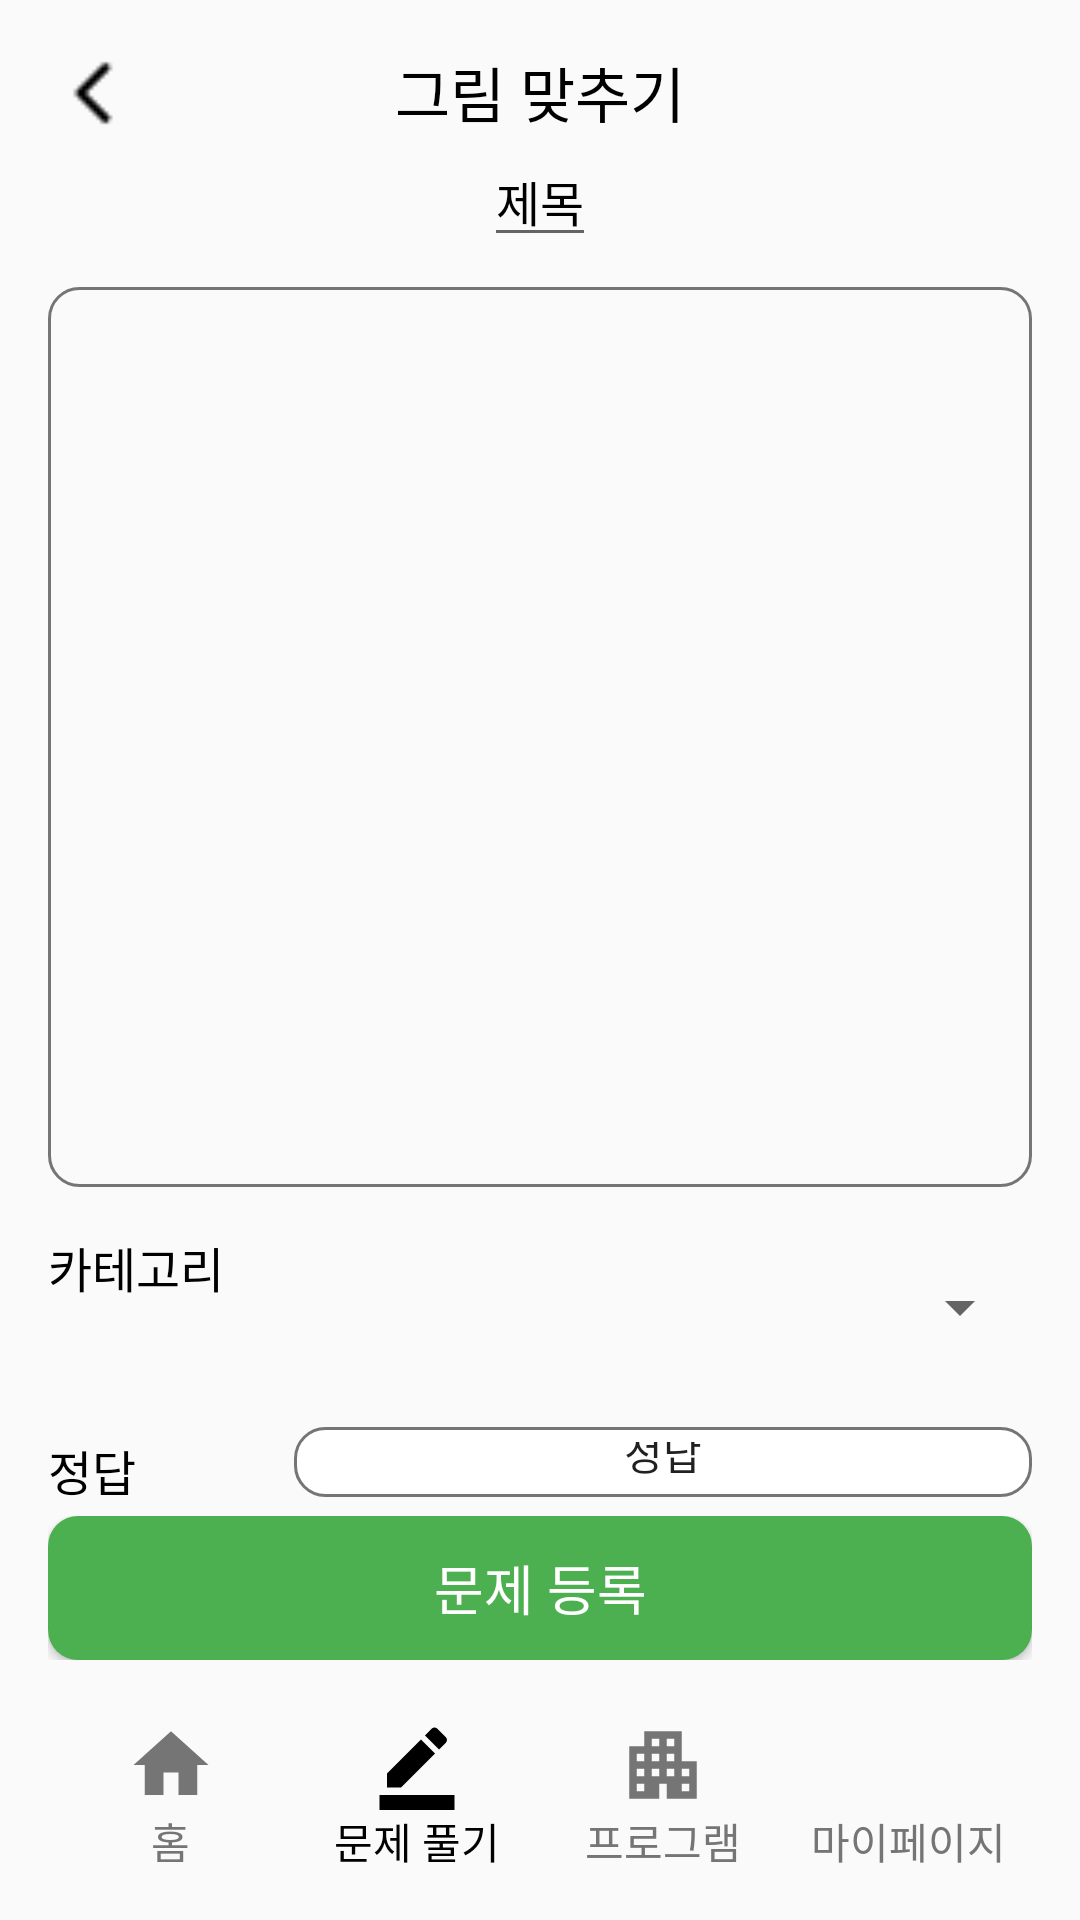

Where to tap for icons on this 1080x1920 app screen, as point (x, y):
pre: point (93, 93)
